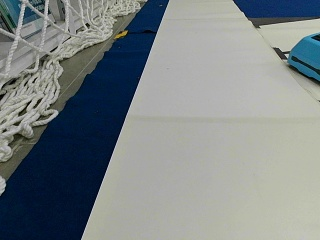car: (288, 31, 319, 80)
